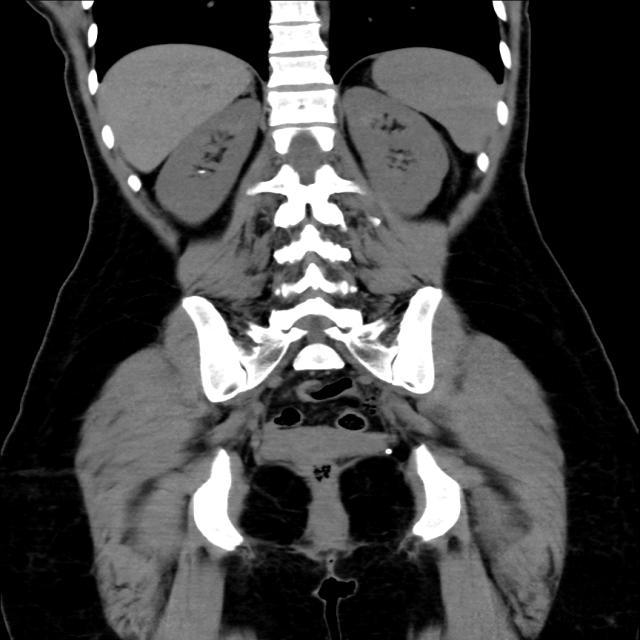kidneystone: (197, 168, 209, 176)
